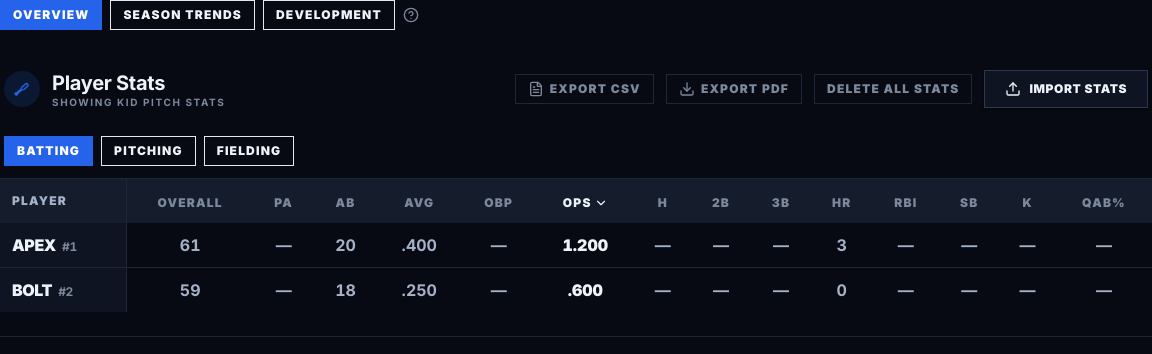
Scenario: StatsTab › switches to the pitching view and reveals advanced pitching columns
Click the button "Pitching": (148,151) [101, 136, 196, 166]
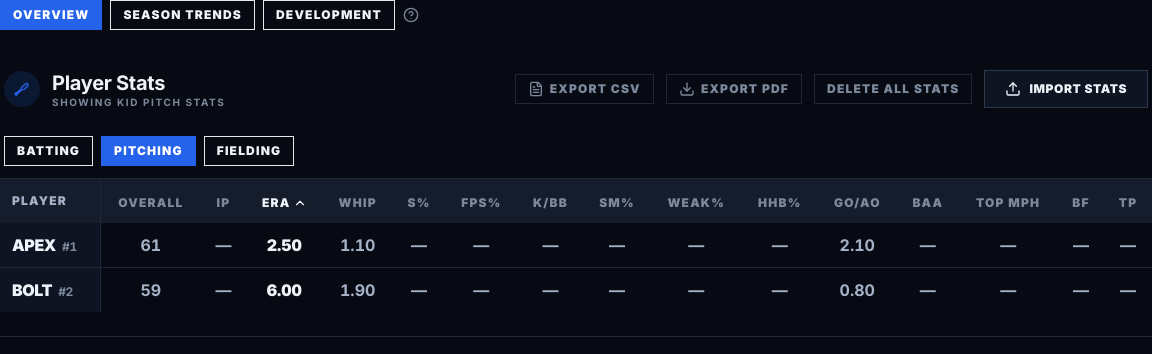
Expected: the button "WHIP" is shown, [339, 195, 377, 211]
Expected: the button "SM%" is shown, [599, 195, 635, 211]
Expected: the button "GO/AO" is shown, [834, 195, 881, 211]
